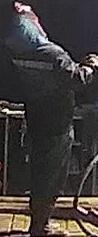vest: (6, 50, 75, 139)
